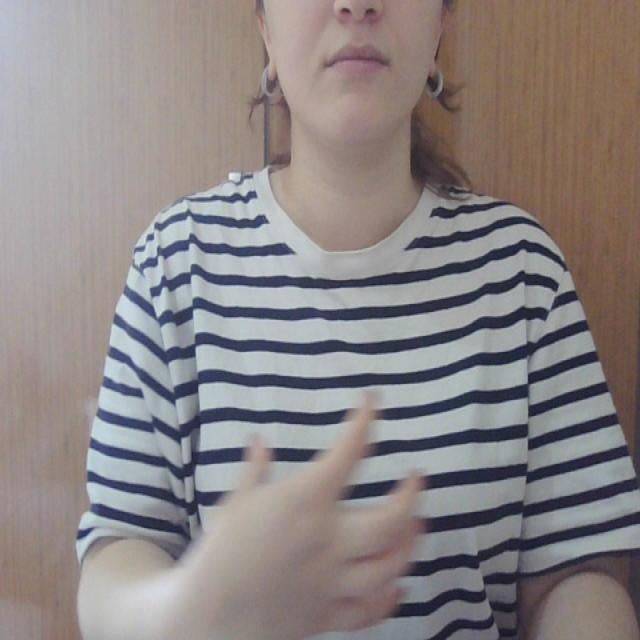Anne: (166, 384, 528, 640)
